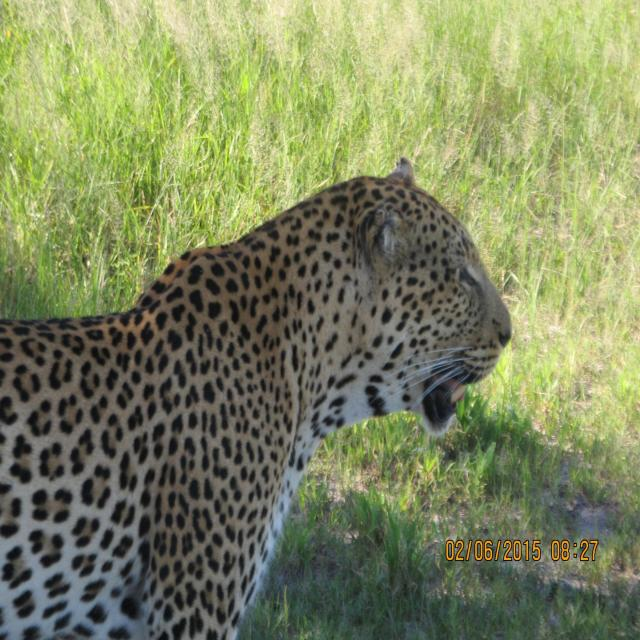Leopard: (0, 116, 550, 640)
